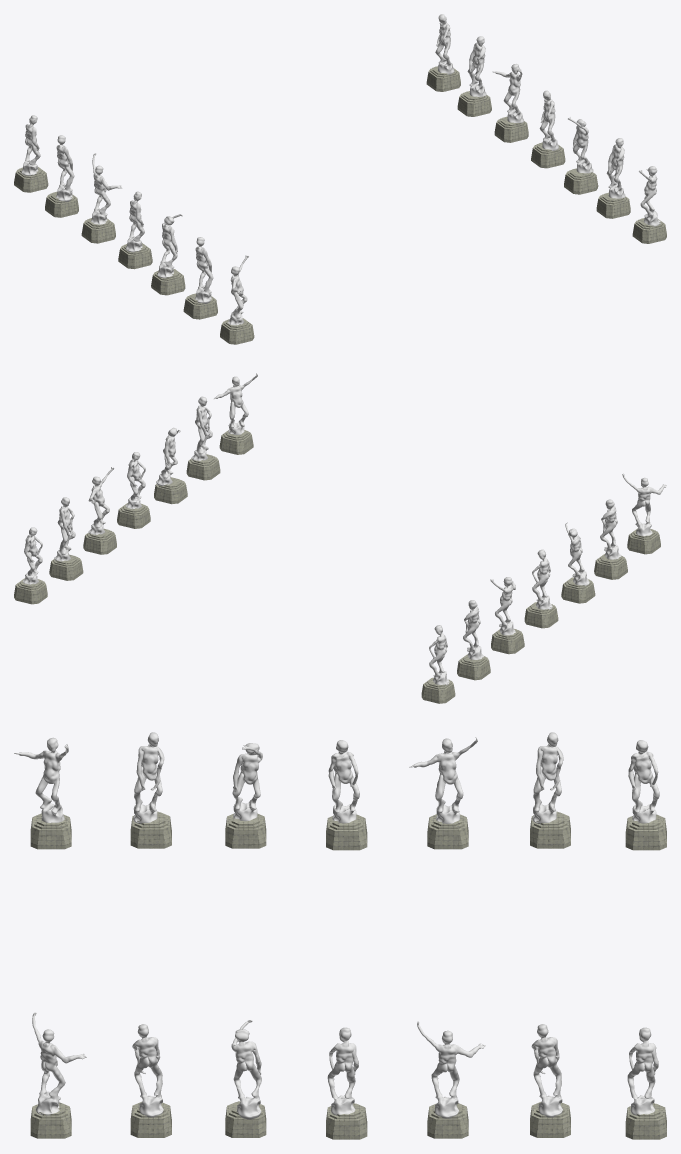
Rendered from SM_Impasse_Statue00.fbx.
The picture shows the model from 3 angles, top to bottom: view 1: azimuth 30°, elevation 25°; view 2: azimuth 150°, elevation 25°; view 3: azimuth 270°, elevation 25°; orthographic projection. The views are drawn at different scales.
Visible parts, largest first — view 1: SM_Impasse_Statue00; view 2: SM_Impasse_Statue00; view 3: SM_Impasse_Statue00.
Part boxes in pixels (x1,y1,x2,y2): SM_Impasse_Statue00: [14, 14, 666, 344]; SM_Impasse_Statue00: [14, 373, 666, 703]; SM_Impasse_Statue00: [14, 732, 666, 1139].
Size of the model in its own units: 4162 by 676 by 3722.
